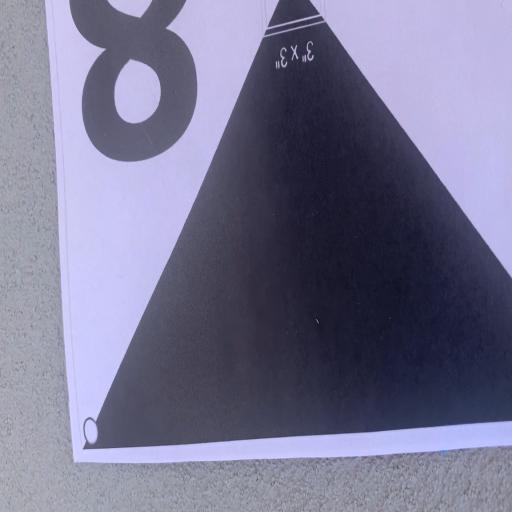target8: (45, 0, 512, 459)
